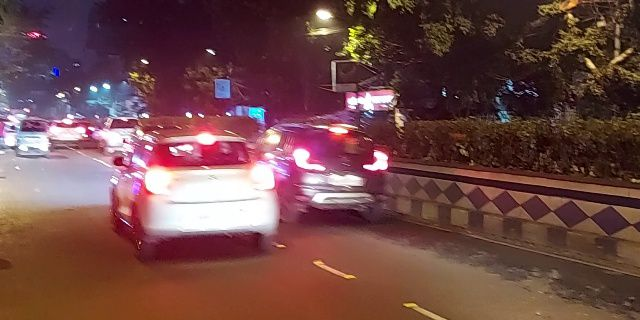Car: (111, 117, 278, 268), (286, 128, 393, 216)
